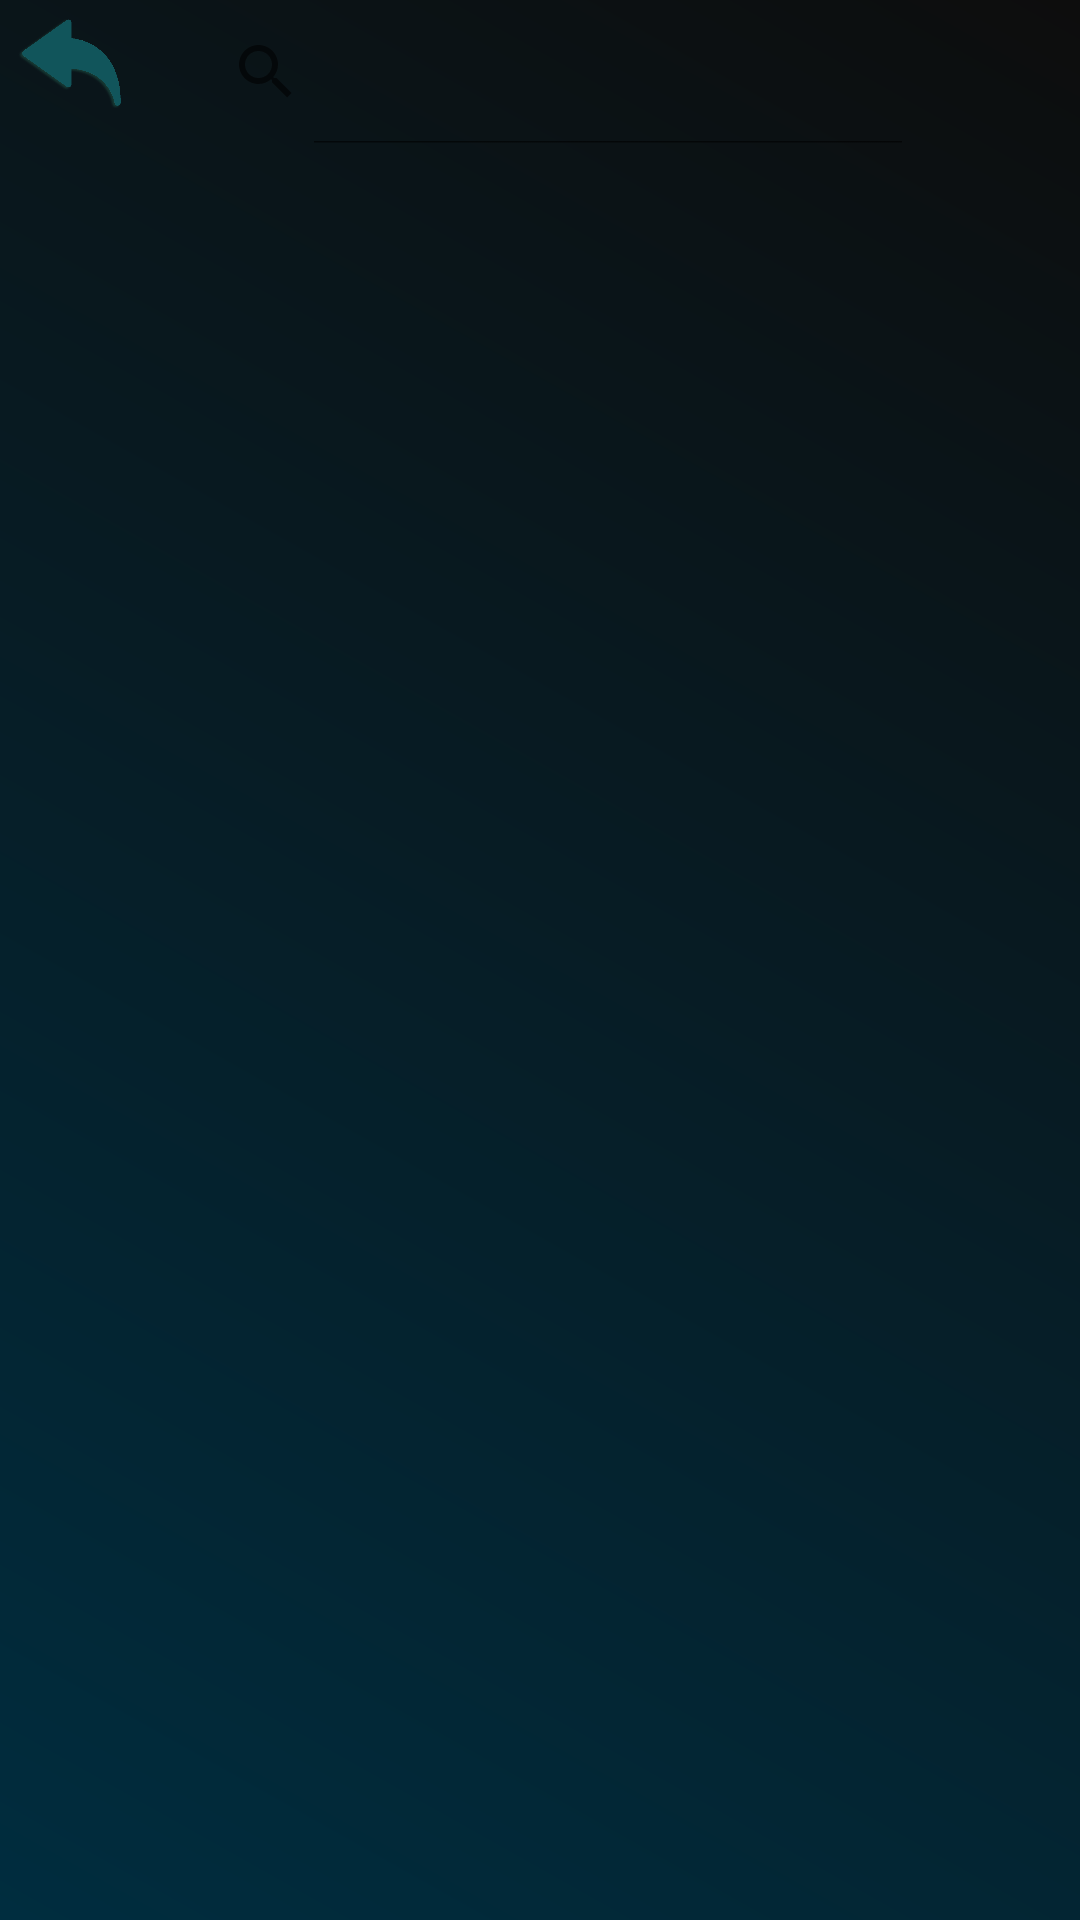

Where to tap for icons on this 1080w x 1920h app screen, as (x=x, y=y):
back arrow: (x=71, y=63)
